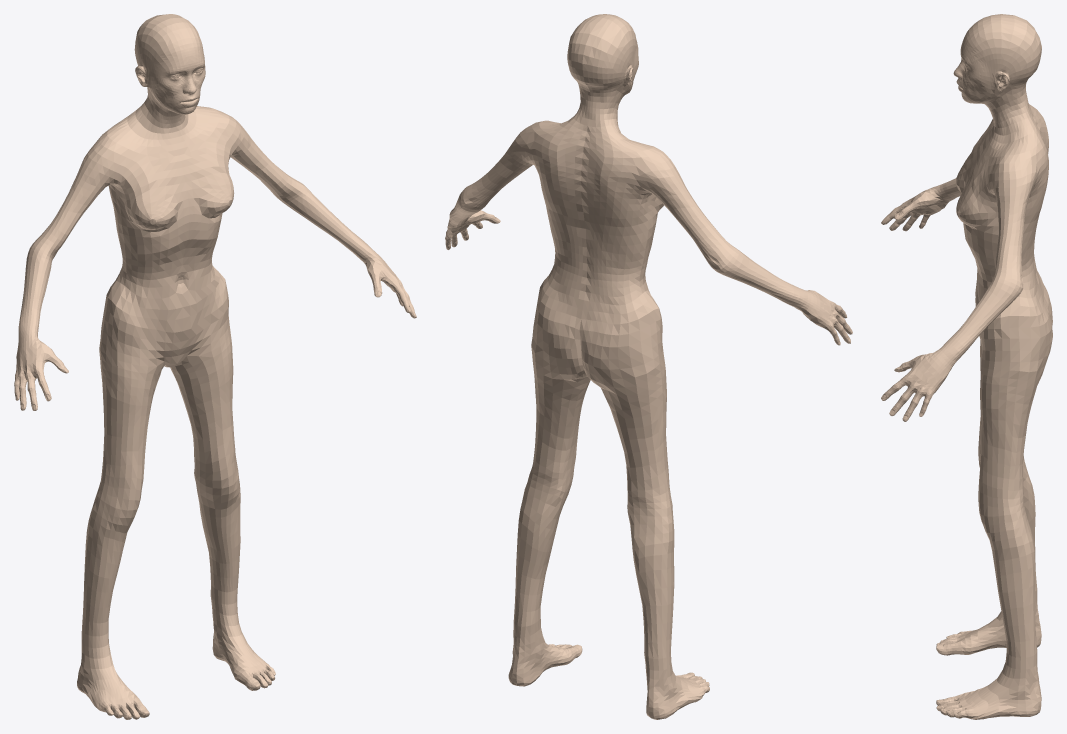
Rendered from female-adult-lean-low.glb.
3 renders of one model, left to right at view 1: azimuth 30°, elevation 25°; view 2: azimuth 150°, elevation 25°; view 3: azimuth 270°, elevation 25°, orthographic.
Parts seen in each view (by area): view 1: world; view 2: world; view 3: world.
Boxes of the visible parts, left/top/right/bottom form: world: left=14, top=14, right=416, bottom=719; world: left=445, top=14, right=852, bottom=719; world: left=881, top=14, right=1052, bottom=719.
Bounding box in the file's own units: 1.12 × 1.81 × 0.4249.
